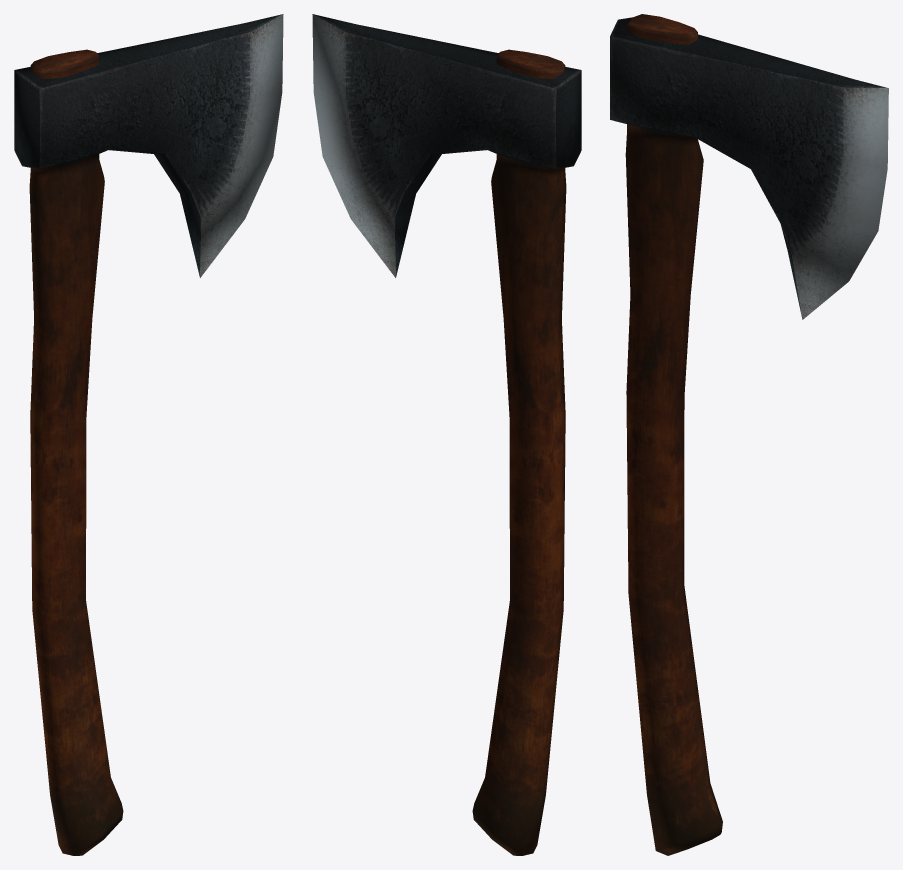
Rendered from WoodcuttingAxe.fbx.
3 views of the same model, side by side, from view 1: azimuth 30°, elevation 25°; view 2: azimuth 150°, elevation 25°; view 3: azimuth 330°, elevation 25° (orthographic). The views are drawn at different scales.
Visible parts, largest first — view 1: WoodcuttingAxe; view 2: WoodcuttingAxe; view 3: WoodcuttingAxe.
Boxes of the visible parts, <box> form: WoodcuttingAxe: <box>14,14,283,855</box>; WoodcuttingAxe: <box>312,14,581,855</box>; WoodcuttingAxe: <box>610,14,888,855</box>.
Size of the model in its own units: 0.2748 by 0.8 by 0.0466.
2 materials, 2 textured.
